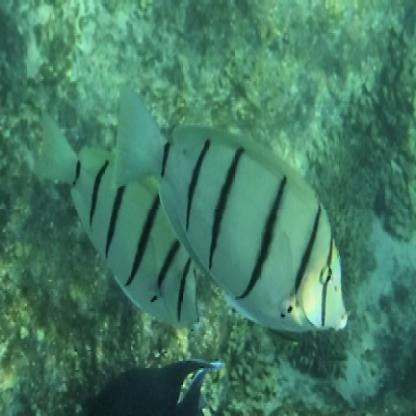surgeon: (115, 75, 350, 342), (38, 106, 206, 334)
